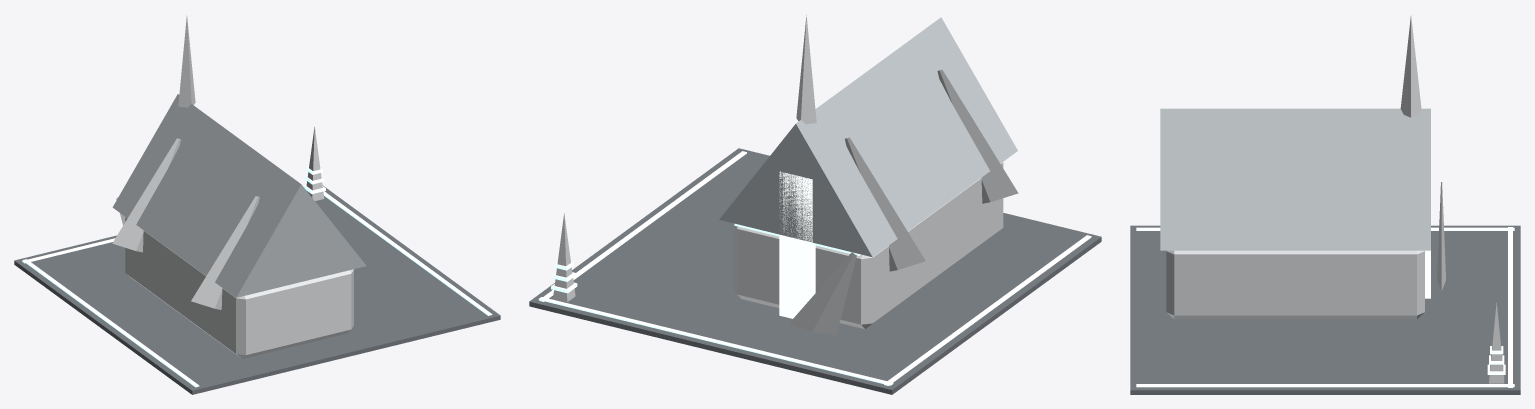
File: zone_low_2_t3.glb
3 views of the same model, side by side, from view 1: azimuth 30°, elevation 25°; view 2: azimuth 150°, elevation 25°; view 3: azimuth 270°, elevation 25° (orthographic). The views are drawn at different scales.
Parts seen in each view (by area): view 1: zone_low_2_t3, detail; view 2: zone_low_2_t3, detail; view 3: zone_low_2_t3, detail.
Boxes of the visible parts, x1,y1,x2,y2 form: zone_low_2_t3: (14,15,500,394); detail: (22,126,492,387); zone_low_2_t3: (529,15,1101,394); detail: (538,151,1091,385); zone_low_2_t3: (1130,15,1520,394); detail: (1136,227,1514,387).
Bounding box in the file's own units: 19.6 × 17.6 × 19.6.
